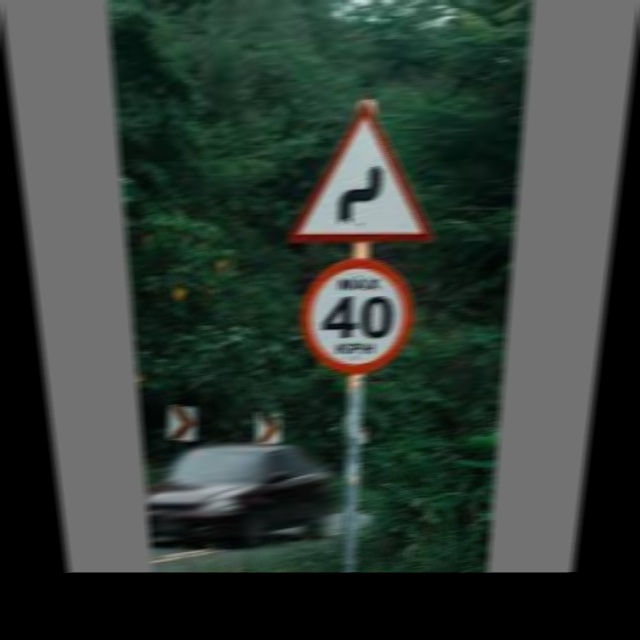Speed_Limit_40: (303, 256, 416, 377)
